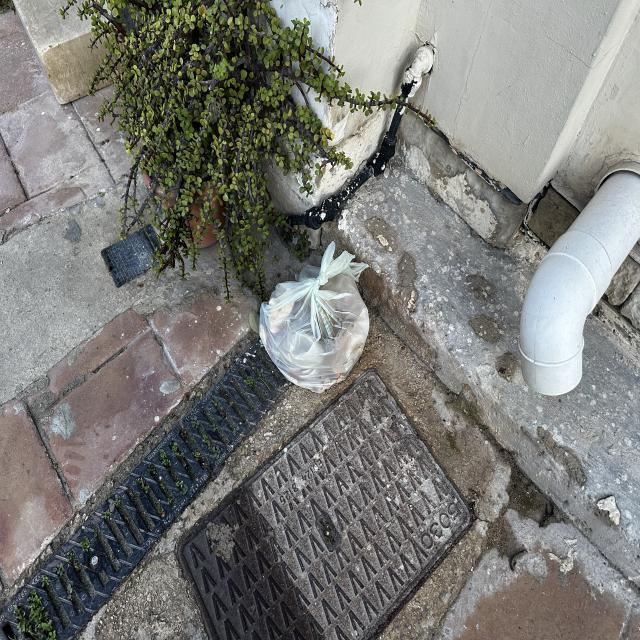Organic Waste -White Bags-: (259, 241, 370, 393)
